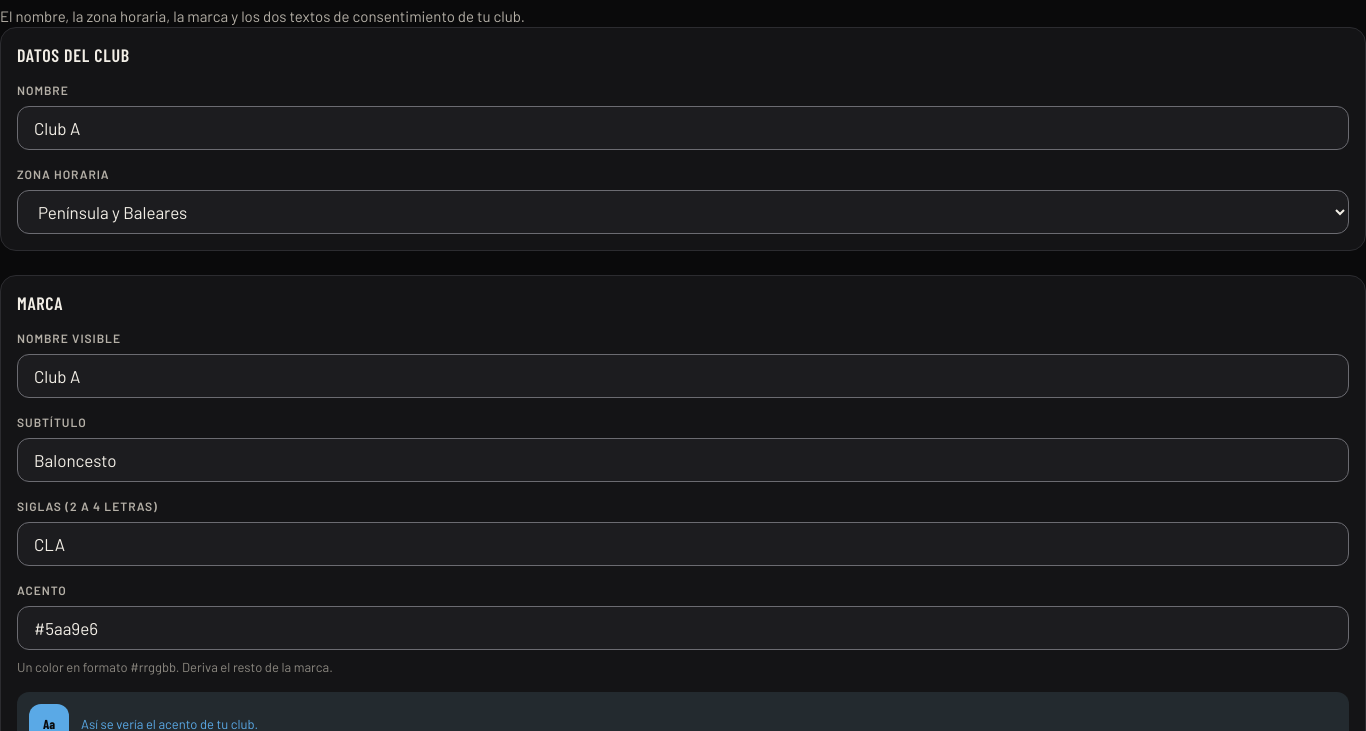
it: ClubScreen › guarda los cambios y lo dice en el botón
This screenshot has width=1366, height=731.
Replace the text in the field labelled "Nombre" with "Club A Editado" at (683, 128), box [17, 106, 1349, 150]
(page scrolled)
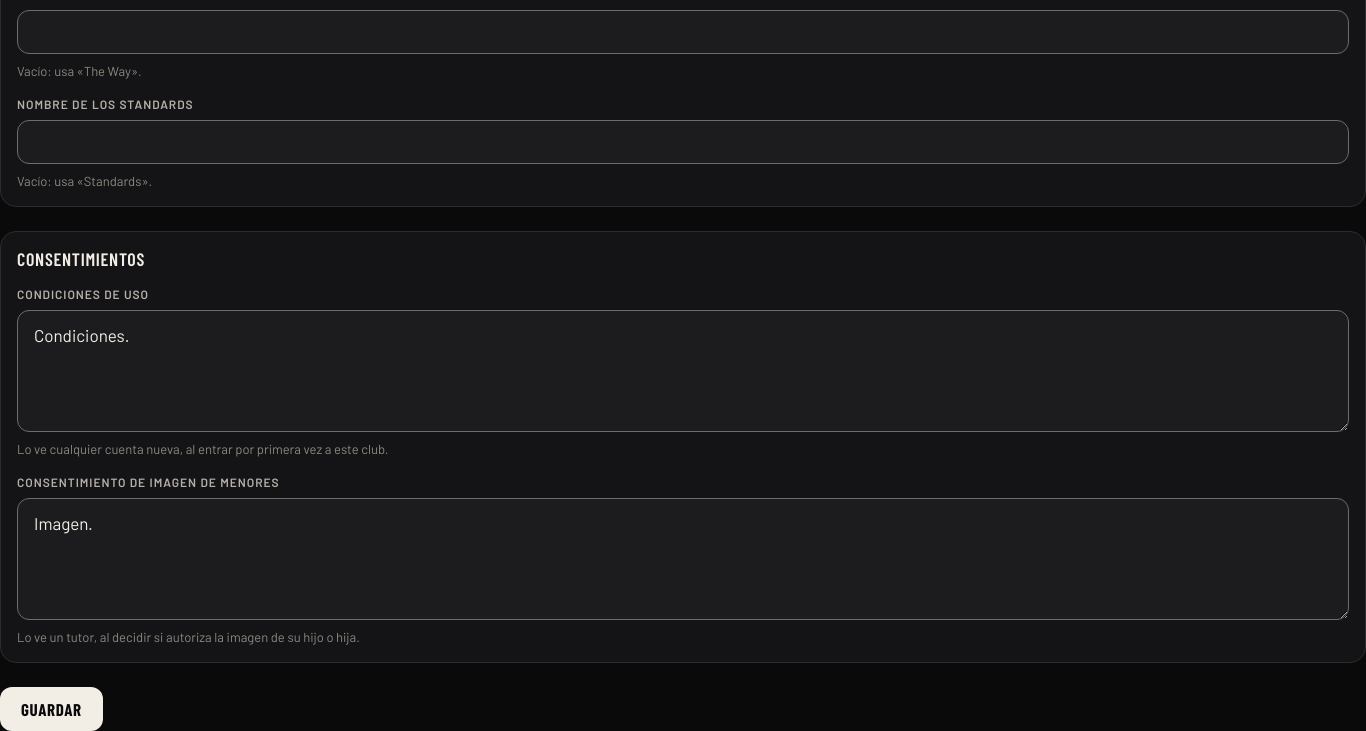
Click the button "Guardar" at (51, 709), box [0, 687, 103, 730]
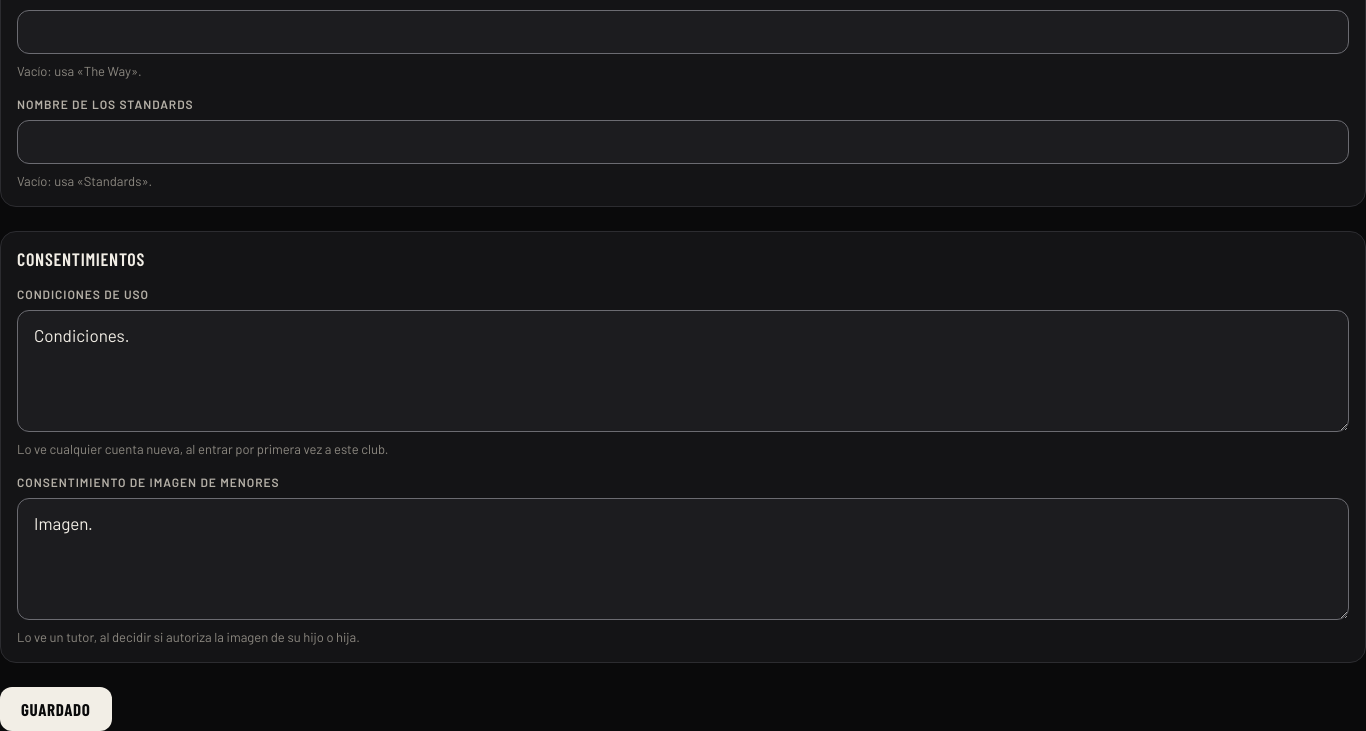
Expected: the button "Guardado" is shown, [0, 687, 112, 730]
